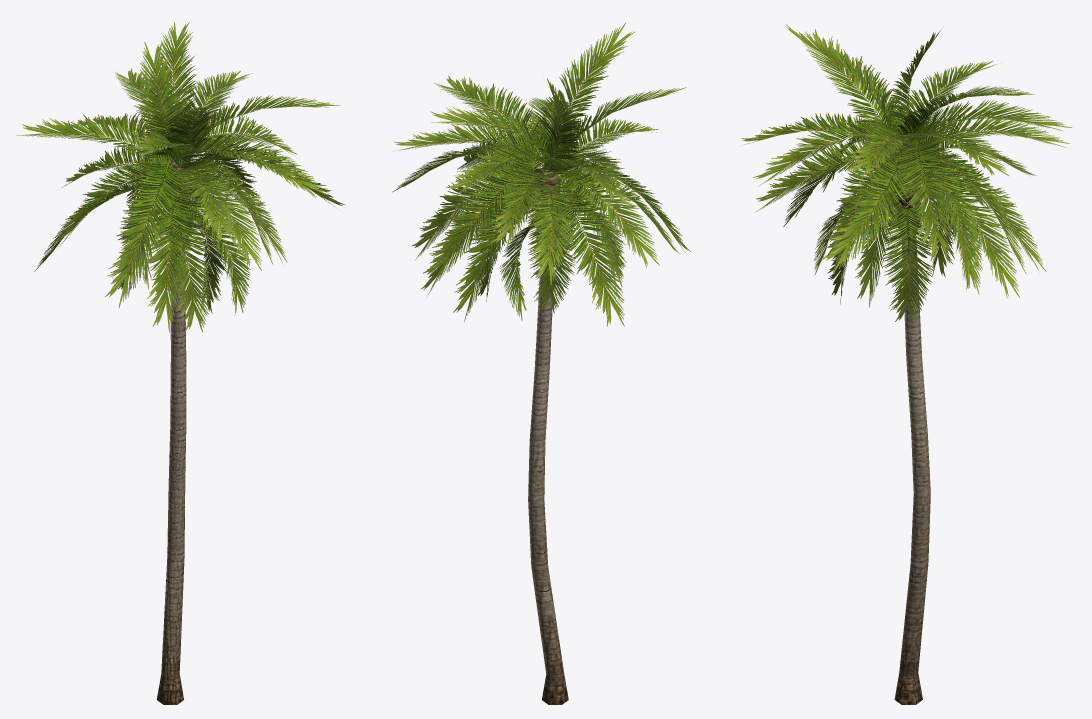
The model's file is Palm Tree.FBX.
3 renders of one model, left to right at view 1: azimuth 30°, elevation 25°; view 2: azimuth 150°, elevation 25°; view 3: azimuth 270°, elevation 25°, orthographic. The views are drawn at different scales.
Visible parts, largest first — view 1: palmleaf2; view 2: palmleaf2; view 3: palmleaf2.
Part boxes in pixels (x1=…): palmleaf2: x1=16, y1=22, x2=345, y2=704; palmleaf2: x1=392, y1=22, x2=690, y2=704; palmleaf2: x1=742, y1=24, x2=1072, y2=704.
Bounding box in the file's own units: 96 × 218 × 102.
